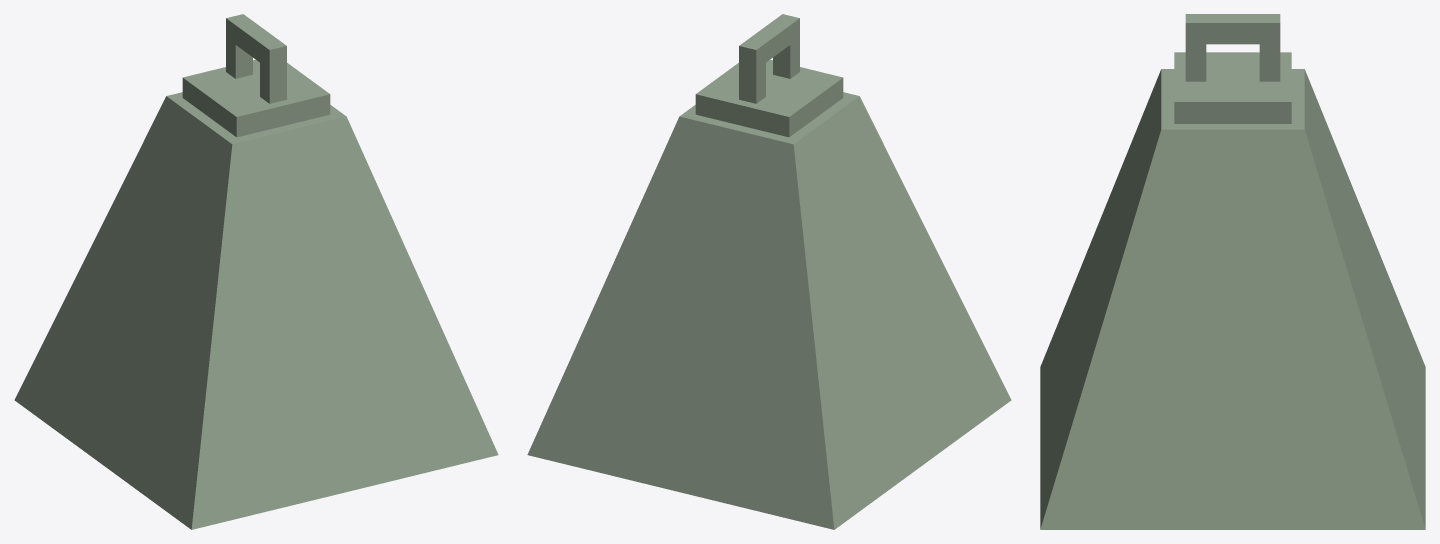
File: tank_stop.fbx
3 views of the same model, side by side, from view 1: azimuth 30°, elevation 25°; view 2: azimuth 150°, elevation 25°; view 3: azimuth 270°, elevation 25° (orthographic). The views are drawn at different scales.
Parts seen in each view (by area): view 1: tank_stop; view 2: tank_stop; view 3: tank_stop.
Boxes of the visible parts, left/top/right/bottom form: tank_stop: left=14, top=14, right=498, bottom=529; tank_stop: left=527, top=14, right=1011, bottom=529; tank_stop: left=1040, top=14, right=1425, bottom=529.
Size of the model in its own units: 1.73 by 2.13 by 1.73.
